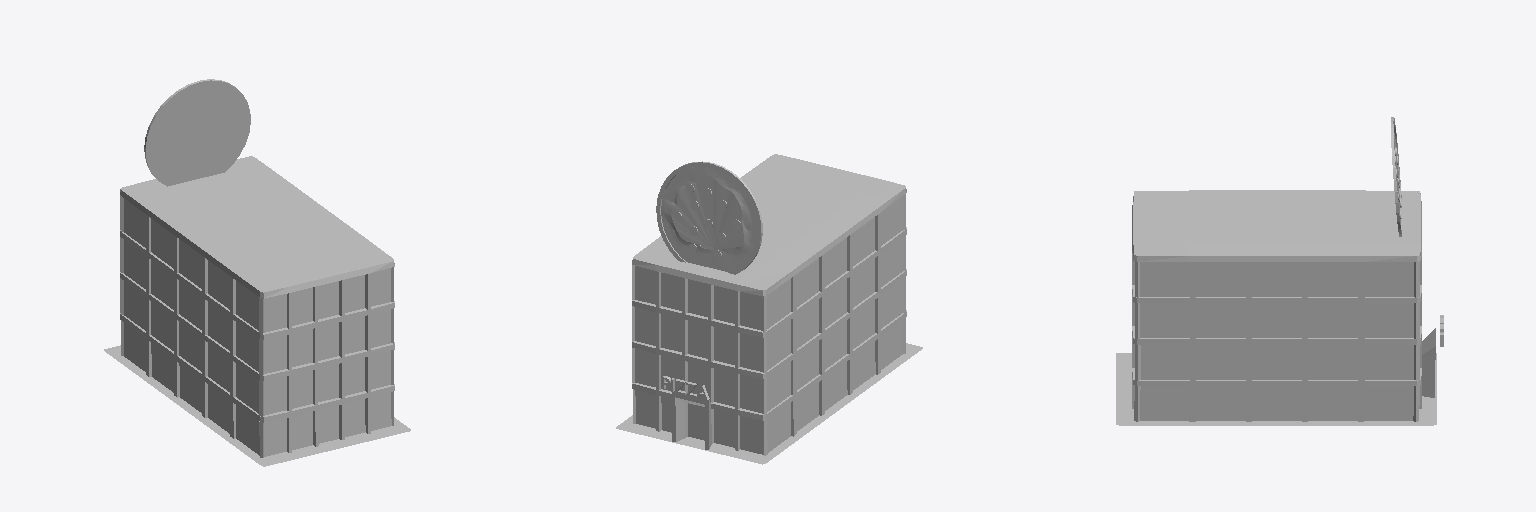
Rendered from pizza shop.obj.
3 views of the same model, side by side, from view 1: azimuth 30°, elevation 25°; view 2: azimuth 150°, elevation 25°; view 3: azimuth 270°, elevation 25° (orthographic).
Parts seen in each view (by area): view 1: Plane, Circle; view 2: Plane, Circle; view 3: Plane, Circle.
Boxes of the visible parts, x1=… form: Plane: x1=104, y1=156, x2=410, y2=466; Circle: x1=144, y1=79, x2=250, y2=186; Plane: x1=616, y1=154, x2=922, y2=464; Circle: x1=656, y1=161, x2=762, y2=274; Plane: x1=1116, y1=190, x2=1436, y2=425; Circle: x1=1391, y1=117, x2=1401, y2=236.
Size of the model in its own units: 8.71 by 14.87 by 16.47.